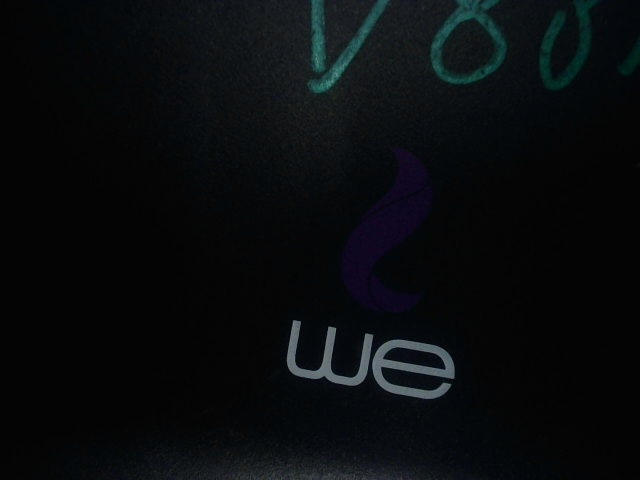AT_We: (279, 133, 475, 403)
